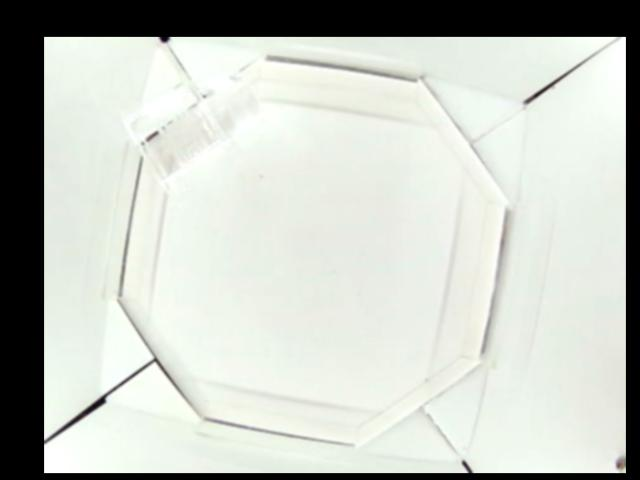Cup: (120, 68, 262, 178)
